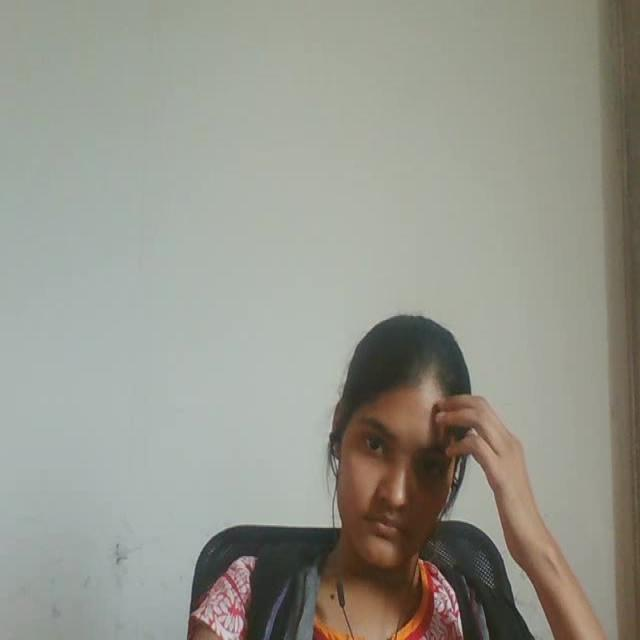Bored: (312, 292, 480, 589)
